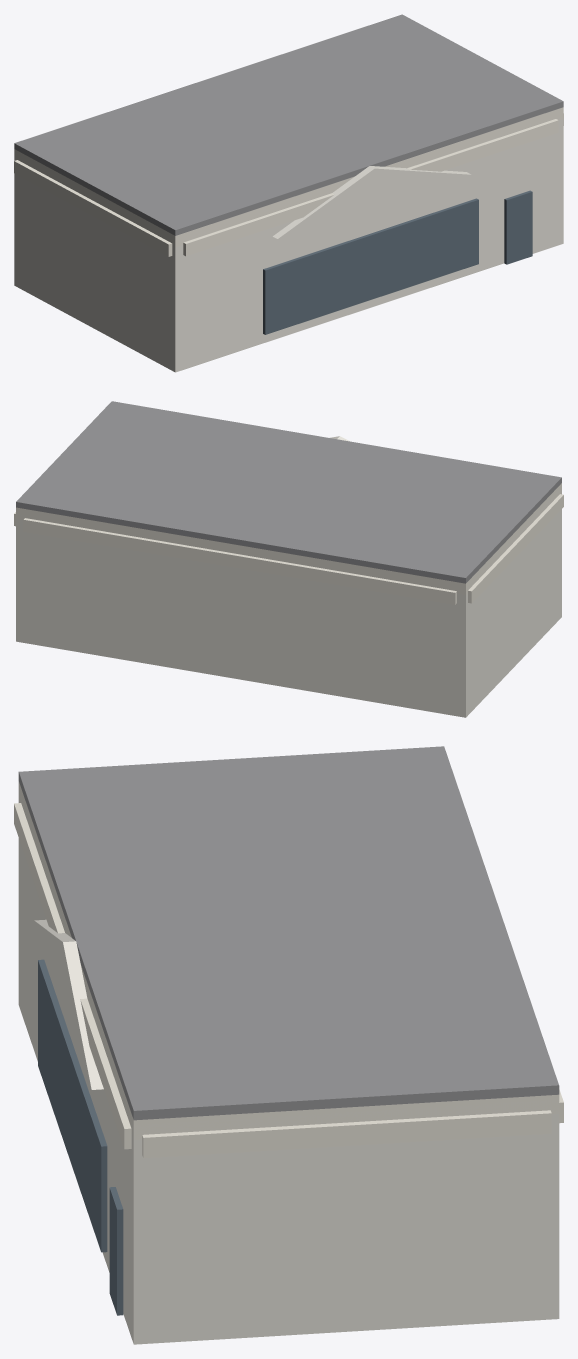
The model's file is d_289_acushnet.glb.
3 renders of one model, top to bottom at view 1: azimuth 30°, elevation 25°; view 2: azimuth 150°, elevation 25°; view 3: azimuth 270°, elevation 25°, orthographic. The views are drawn at different scales.
Parts seen in each view (by area): view 1: roofcap, mass, store289, cornice, gab289, fas289_0, fas289_3, door289; view 2: mass, roofcap, fas289_2, cornice, fas289_3; view 3: roofcap, mass, fas289_1, store289, cornice, fas289_0, gab289, door289.
Part boxes in pixels (x1=…): roofcap: x1=14, y1=14, x2=563, y2=235; mass: x1=14, y1=119, x2=563, y2=372; store289: x1=263, y1=198, x2=478, y2=334; cornice: x1=14, y1=107, x2=563, y2=247; gab289: x1=273, y1=166, x2=471, y2=238; fas289_0: x1=183, y1=119, x2=558, y2=256; fas289_3: x1=14, y1=160, x2=172, y2=256; door289: x1=504, y1=190, x2=532, y2=264; mass: x1=16, y1=491, x2=561, y2=717; roofcap: x1=16, y1=401, x2=561, y2=583; fas289_2: x1=23, y1=518, x2=456, y2=604; cornice: x1=16, y1=483, x2=561, y2=594; fas289_3: x1=468, y1=494, x2=563, y2=603; roofcap: x1=18, y1=746, x2=559, y2=1120; mass: x1=18, y1=788, x2=559, y2=1344; fas289_1: x1=142, y1=1110, x2=551, y2=1158; store289: x1=38, y1=959, x2=107, y2=1252; cornice: x1=18, y1=781, x2=559, y2=1139; fas289_0: x1=14, y1=803, x2=131, y2=1149; gab289: x1=34, y1=919, x2=103, y2=1089; door289: x1=109, y1=1187, x2=123, y2=1315.
Bounding box in the file's own units: 19.47 × 5.74 × 12.24.
